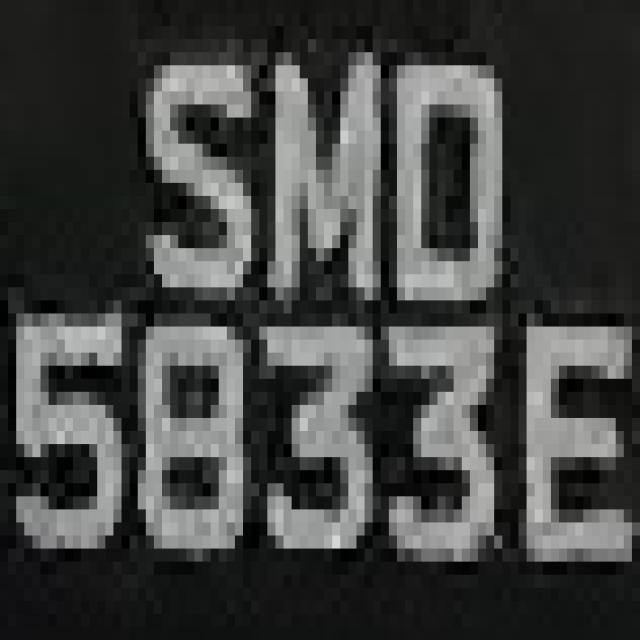3: (251, 261, 373, 588), (381, 261, 502, 575)
5: (8, 274, 138, 575)
8: (114, 287, 268, 588)
D: (381, 66, 518, 300)
E: (502, 287, 640, 575)
M: (251, 39, 389, 314)
S: (138, 52, 259, 327)
